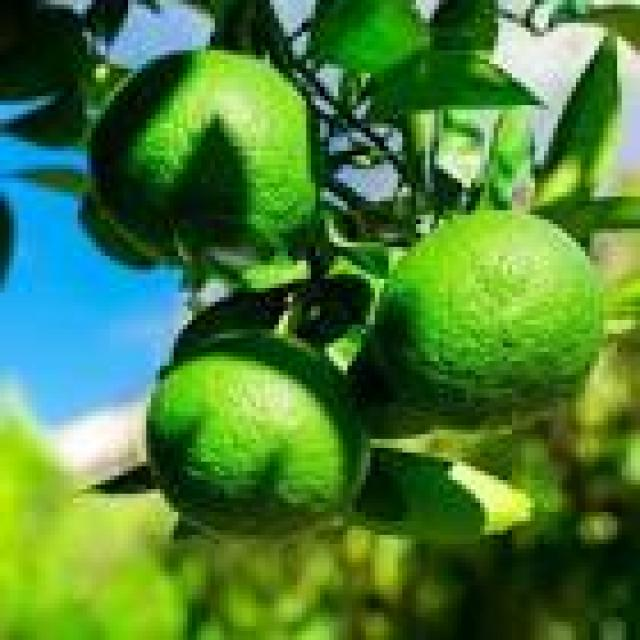orange: (366, 210, 599, 430), (91, 50, 315, 256), (146, 334, 366, 530)
